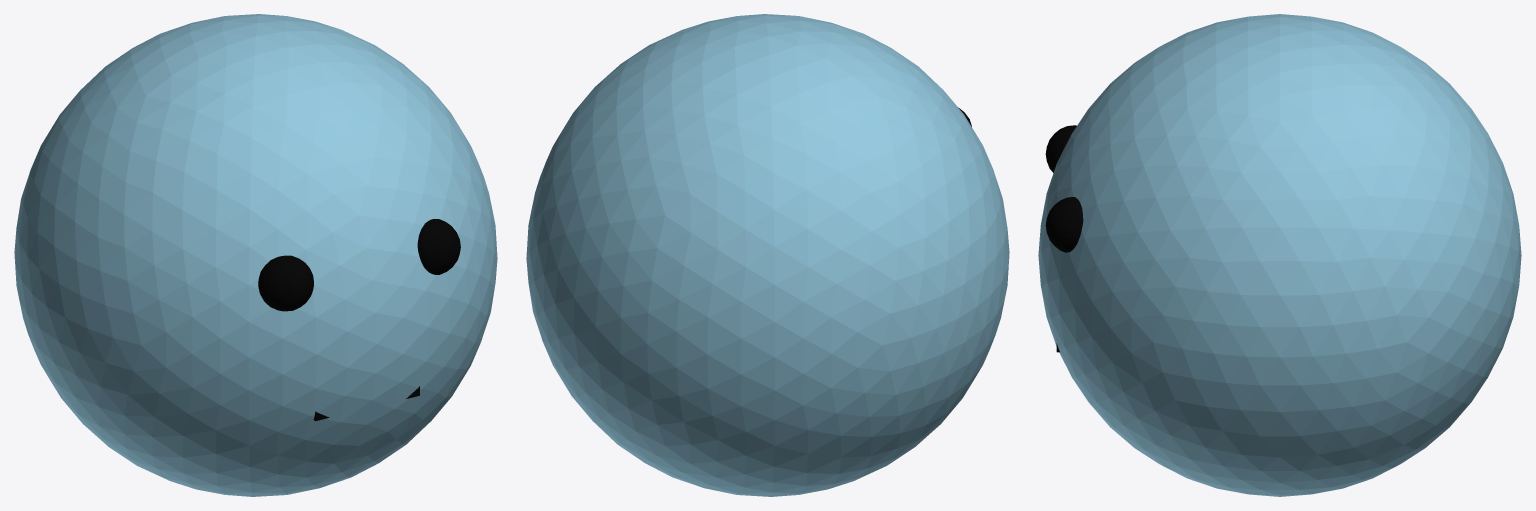
Rendered from emoji_calm.glb.
The picture shows the model from 3 angles, left to right: view 1: azimuth 30°, elevation 25°; view 2: azimuth 150°, elevation 25°; view 3: azimuth 270°, elevation 25°; orthographic projection.
Visible parts, largest first — view 1: world; view 2: world; view 3: world.
Part boxes in pixels (left/top/right/bottom): world: left=14, top=14, right=497, bottom=496; world: left=526, top=14, right=1009, bottom=496; world: left=1038, top=14, right=1521, bottom=496.
Size of the model in its own units: 2 by 2 by 2.
